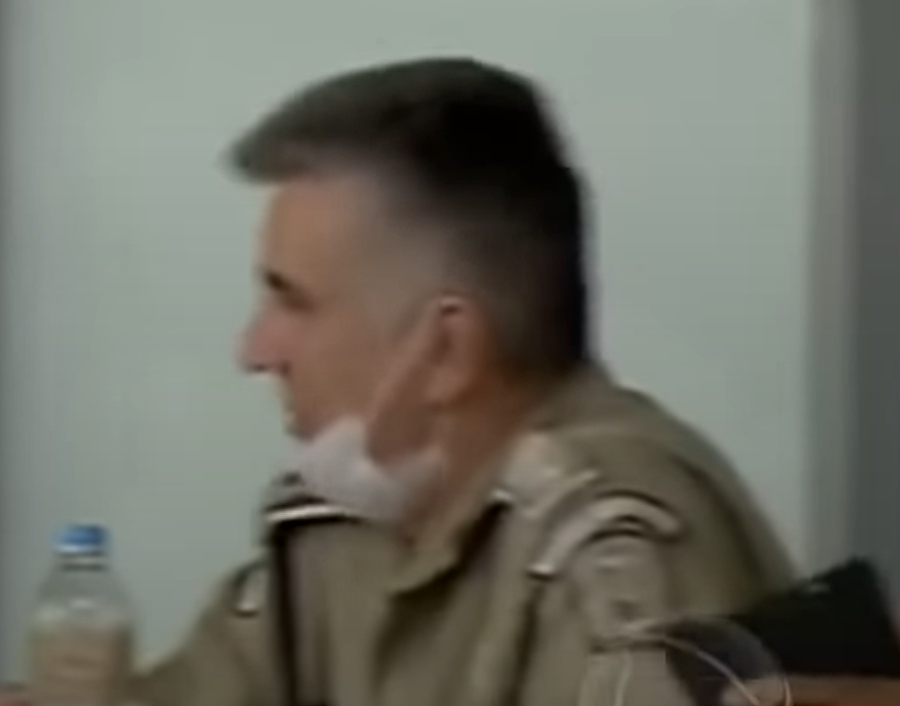mask_weared_incorrect: (218, 142, 519, 549)
